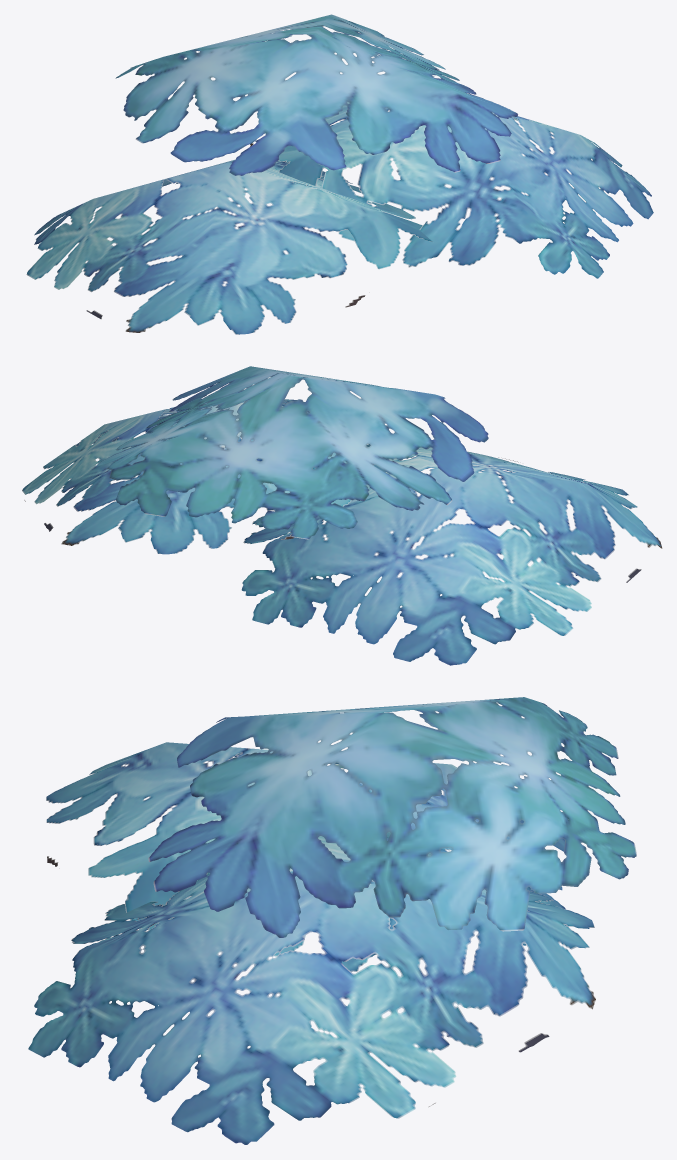
Rendered from Map_10_plant10.FBX.
3 renders of one model, top to bottom at view 1: azimuth 30°, elevation 25°; view 2: azimuth 150°, elevation 25°; view 3: azimuth 270°, elevation 25°, orthographic. The views are drawn at different scales.
Visible parts, largest first — view 1: Map_10_plant10; view 2: Map_10_plant10; view 3: Map_10_plant10.
Part boxes in pixels (<box>): Map_10_plant10: <box>26,14,653,334</box>; Map_10_plant10: <box>22,366,662,665</box>; Map_10_plant10: <box>28,697,636,1144</box>.
Size of the model in its own units: 286 by 92.29 by 215.
Materials: 1 (1 with a texture image).
